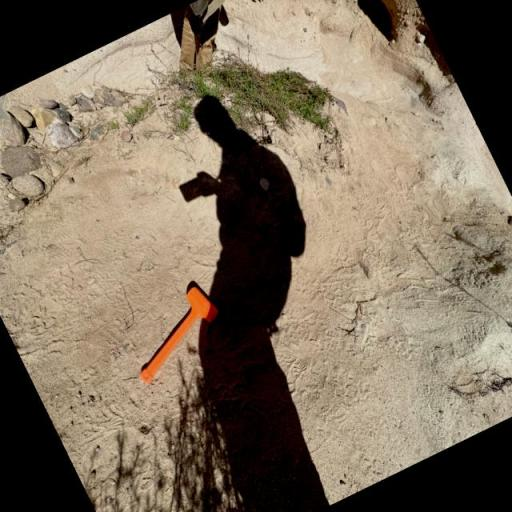mallet: (113, 279, 235, 386)
